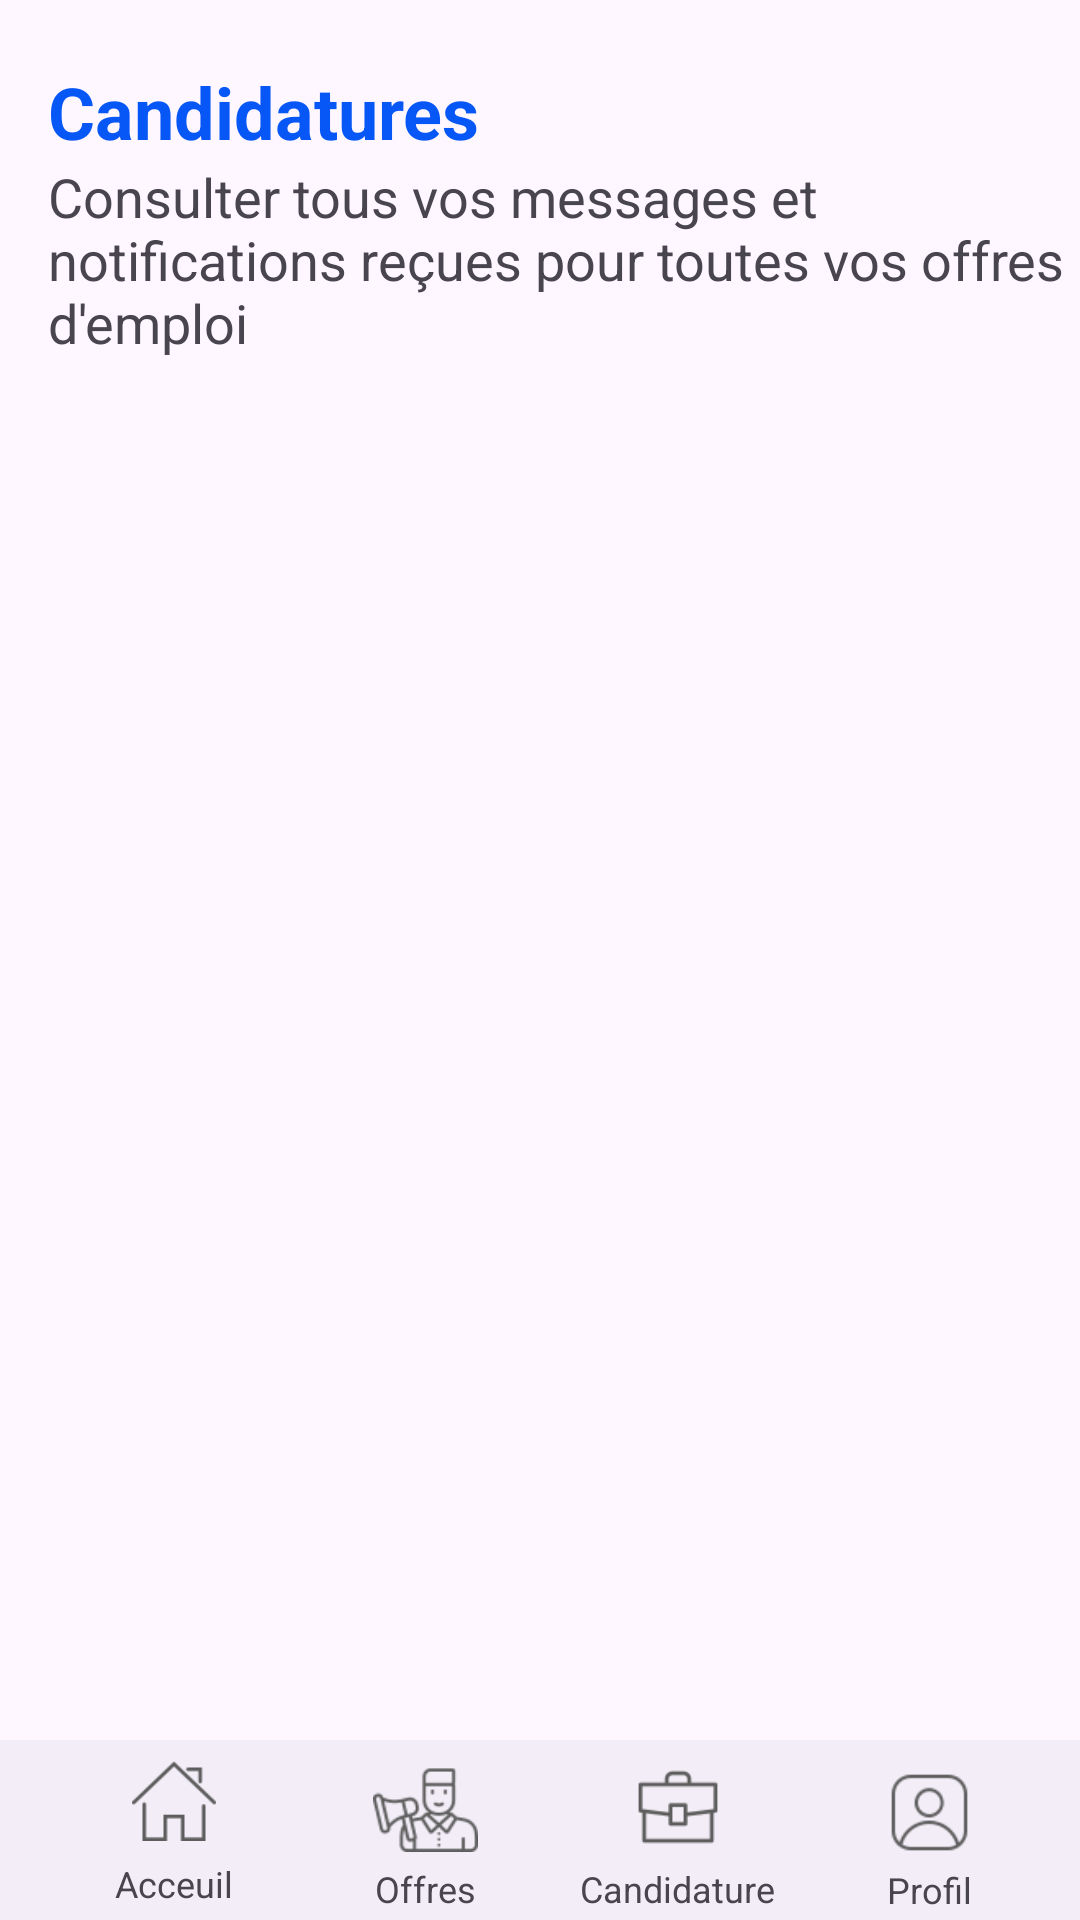

Where icons sit on this 1080*1920 app screen, as (x1, y1, x2, y2):
recruiter: (373, 1768, 478, 1852)
user: (891, 1774, 968, 1851)
